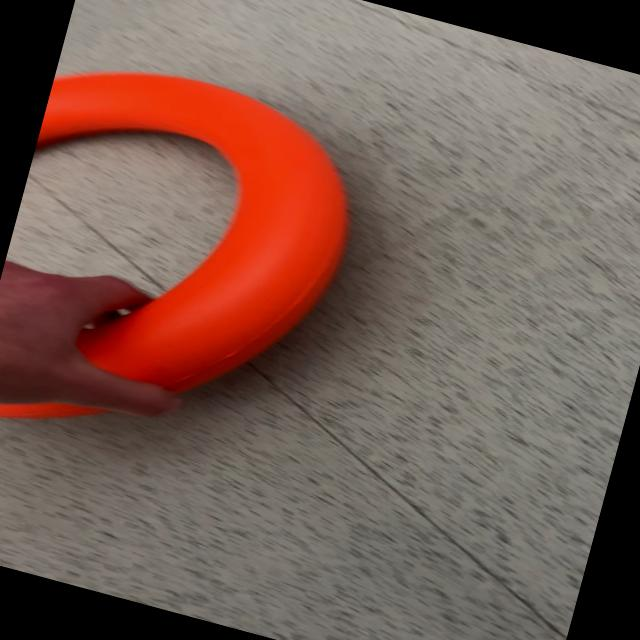note: (0, 42, 379, 497)
